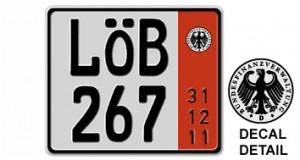2: (72, 85, 102, 143)
6: (105, 84, 134, 144)
7: (138, 84, 167, 144)
B: (138, 17, 170, 77)
L: (69, 17, 101, 78)
oe: (104, 16, 135, 78)
